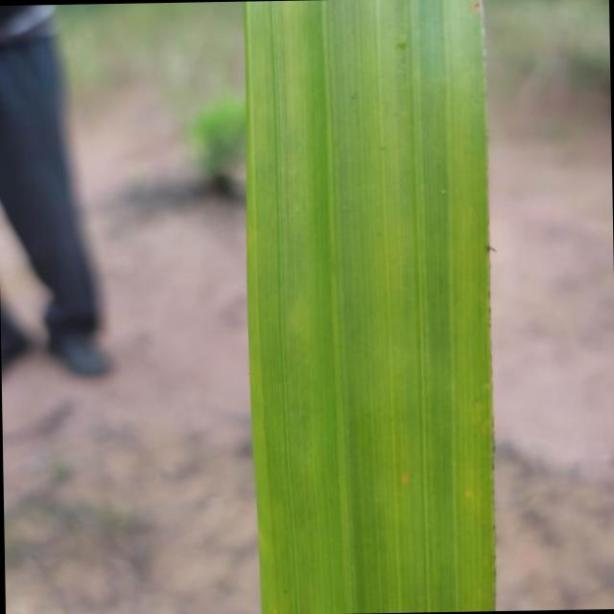nitrogen: (247, 0, 500, 614)
